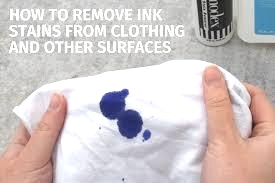ink: (100, 88, 128, 120), (118, 111, 143, 136), (144, 129, 150, 141)
